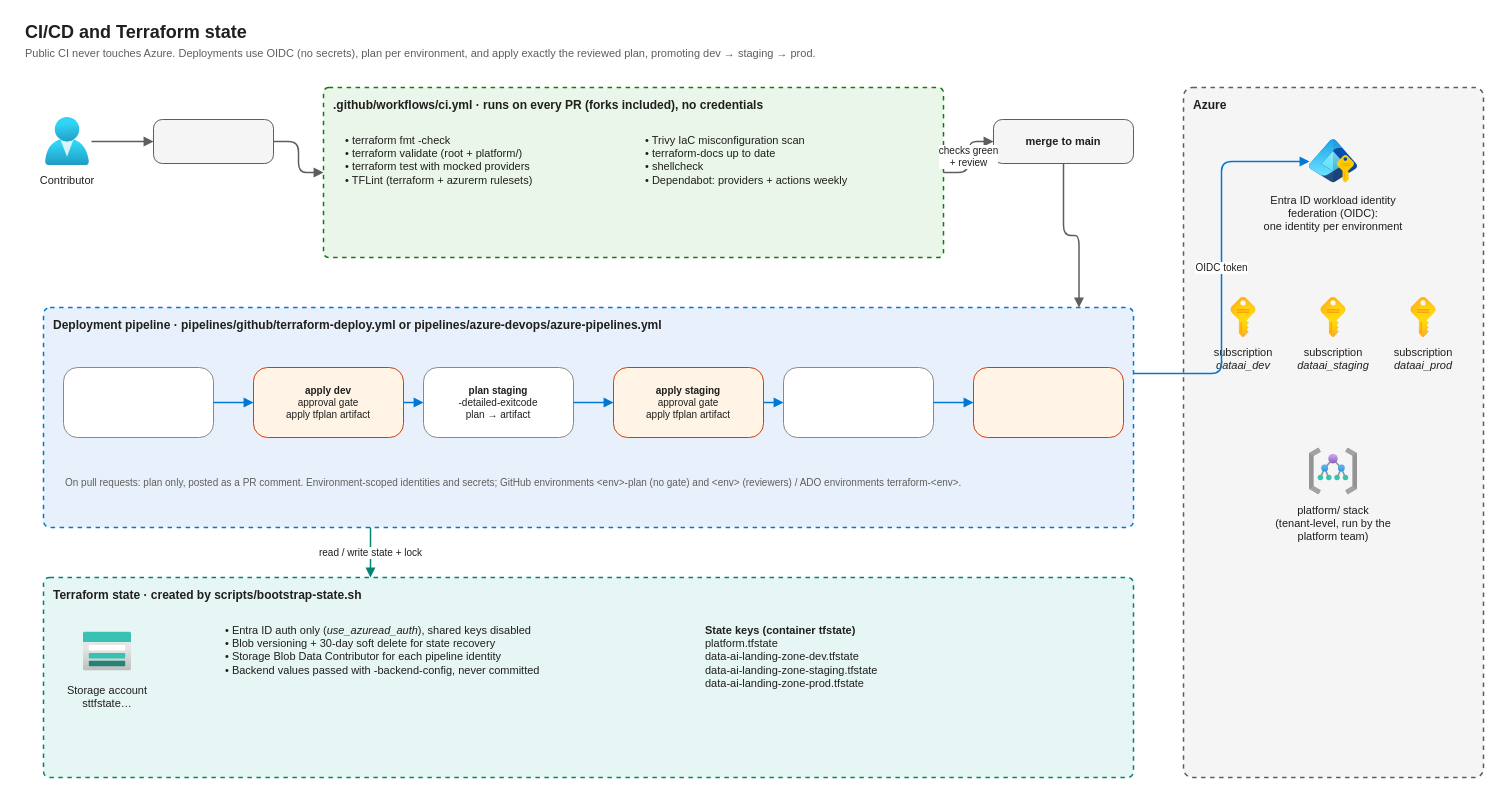
The diagram is 1501 pixels wide and 795 high, and some of its shapes have lost their labels. Here are the shapes that lost their labels. From the top down, the centre of each, then its label:
At point 213,141: "Pull request".
At point 138,402: "plan dev -detailed-exitcode plan → artifact".
At point 858,402: "plan prod -detailed-exitcode plan → artifact".
At point 1048,402: "apply prod approval gate apply tfplan artifact".
